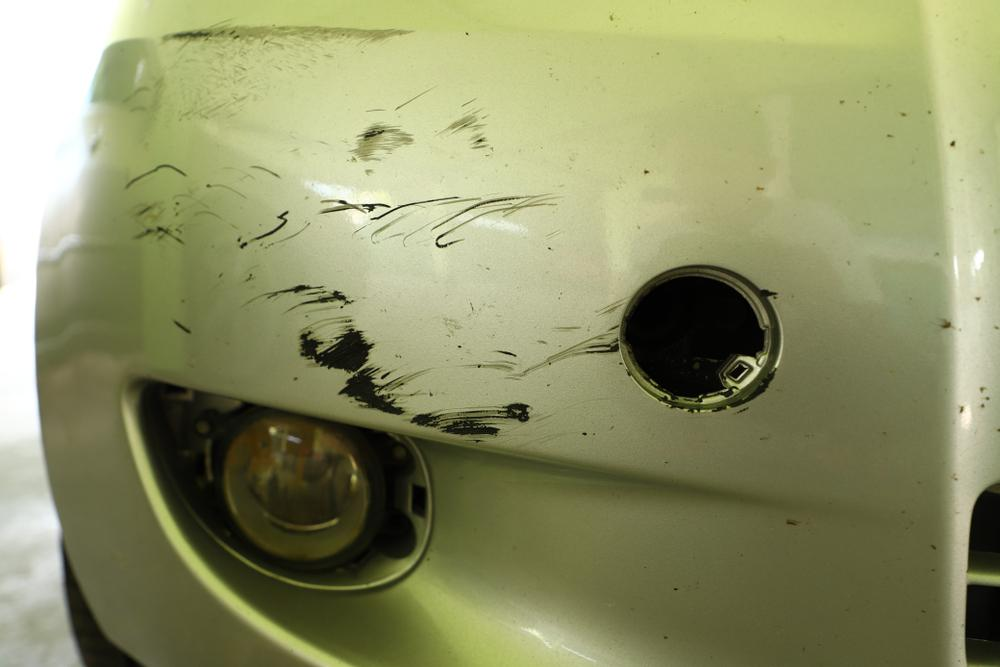scratch: (104, 15, 633, 444)
